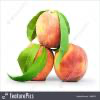Peach leaf: (8, 47, 45, 83), (56, 10, 69, 73), (26, 10, 50, 42), (18, 44, 41, 74)
